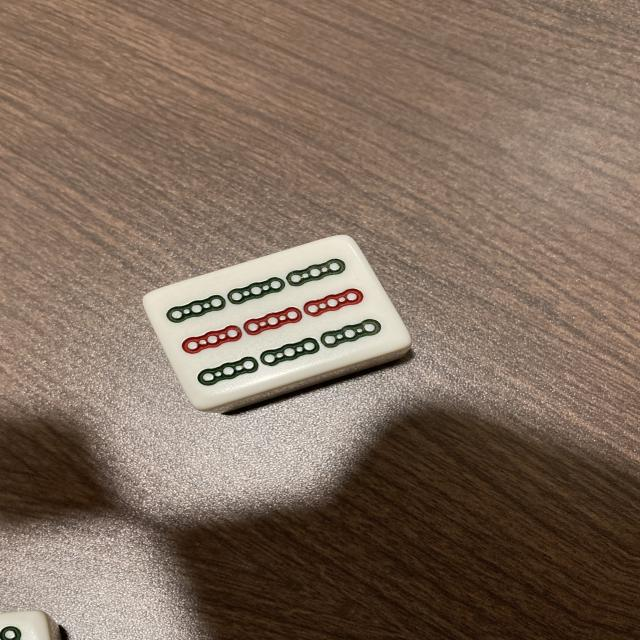s9: (151, 238, 410, 407)
